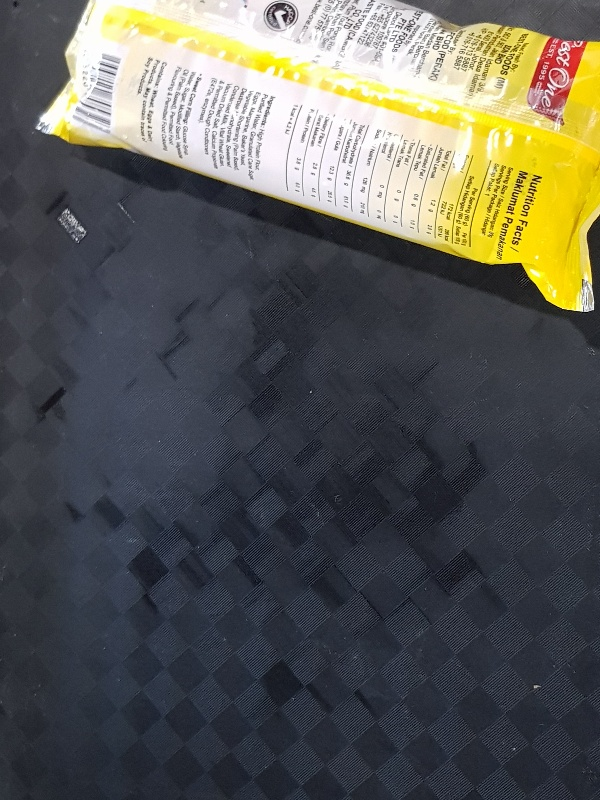Tinges Roll Sweet Corn: (34, 1, 600, 313)
